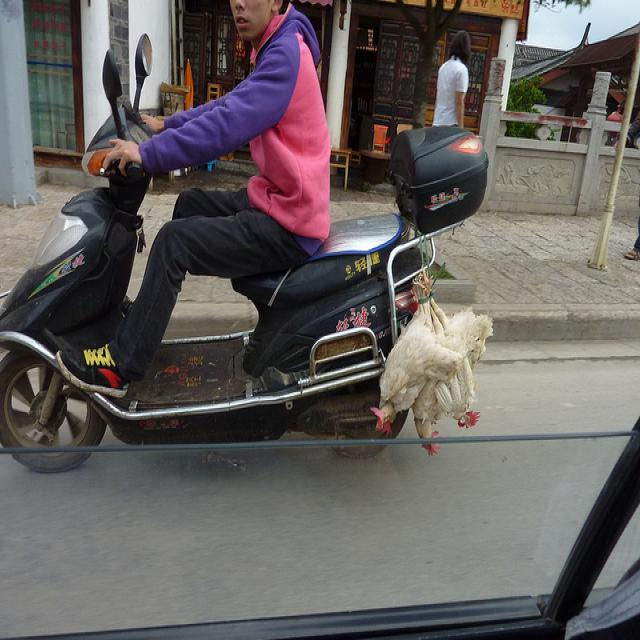motor: (1, 26, 485, 475)
